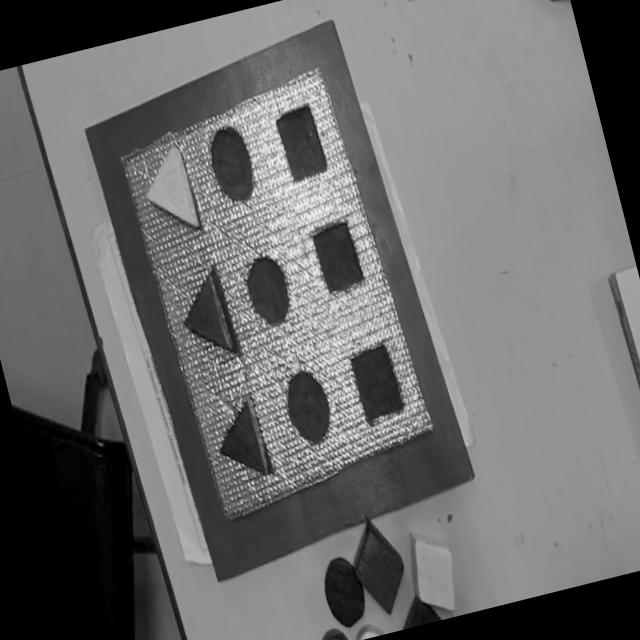bcircle: (324, 557, 364, 627)
btriangle: (219, 398, 271, 474)
mtcircle: (210, 126, 254, 204)
mtcube: (350, 344, 402, 423)
rcube: (353, 520, 403, 613)
rtriangle: (183, 270, 235, 352)
wb: (85, 21, 471, 579)
ycube: (410, 533, 454, 609)
ytriangle: (146, 144, 199, 228)
